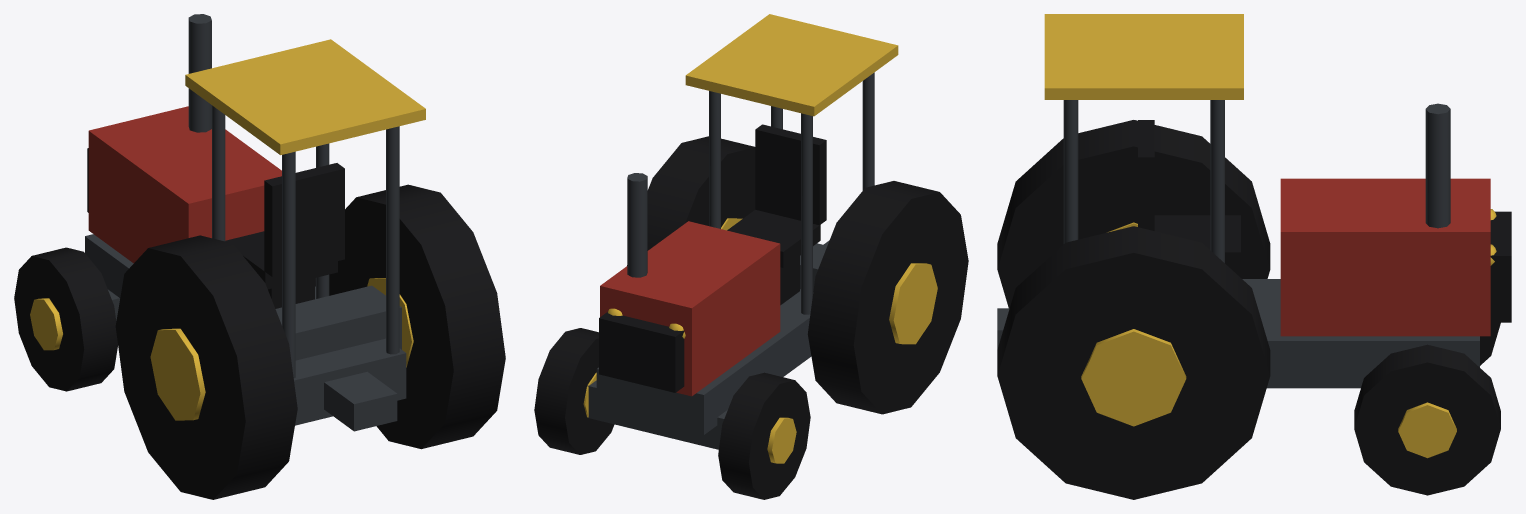
The model's file is kit-farm-tractor.glb.
3 views of the same model, side by side, from view 1: azimuth 30°, elevation 25°; view 2: azimuth 150°, elevation 25°; view 3: azimuth 270°, elevation 25° (orthographic). The views are drawn at different scales.
Visible parts, largest first — view 1: farm_tractor; view 2: farm_tractor; view 3: farm_tractor.
Boxes of the visible parts, box(x1,y1,x2,y2) form: farm_tractor: box(14, 14, 505, 499); farm_tractor: box(534, 14, 968, 499); farm_tractor: box(997, 14, 1511, 499).
Size of the model in its own units: 1.56 by 2.01 by 2.45.
